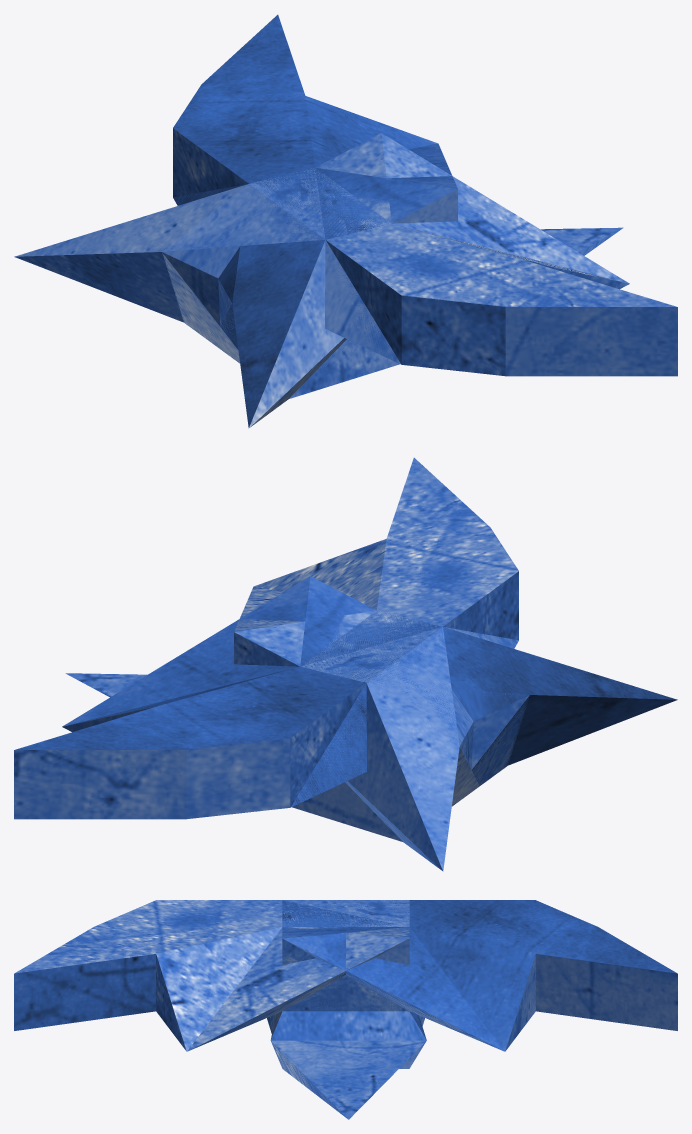
The model's file is blueship.fbx.
The picture shows the model from 3 angles, top to bottom: view 1: azimuth 30°, elevation 25°; view 2: azimuth 150°, elevation 25°; view 3: azimuth 270°, elevation 25°; orthographic projection. The views are drawn at different scales.
Visible parts, largest first — view 1: Cube; view 2: Cube; view 3: Cube.
Boxes of the visible parts, x1=… form: Cube: x1=14, y1=14, x2=677, y2=428; Cube: x1=14, y1=457, x2=677, y2=871; Cube: x1=14, y1=900, x2=677, y2=1119.
Bounding box in the file's own units: 7.46 × 2.27 × 10.46.
